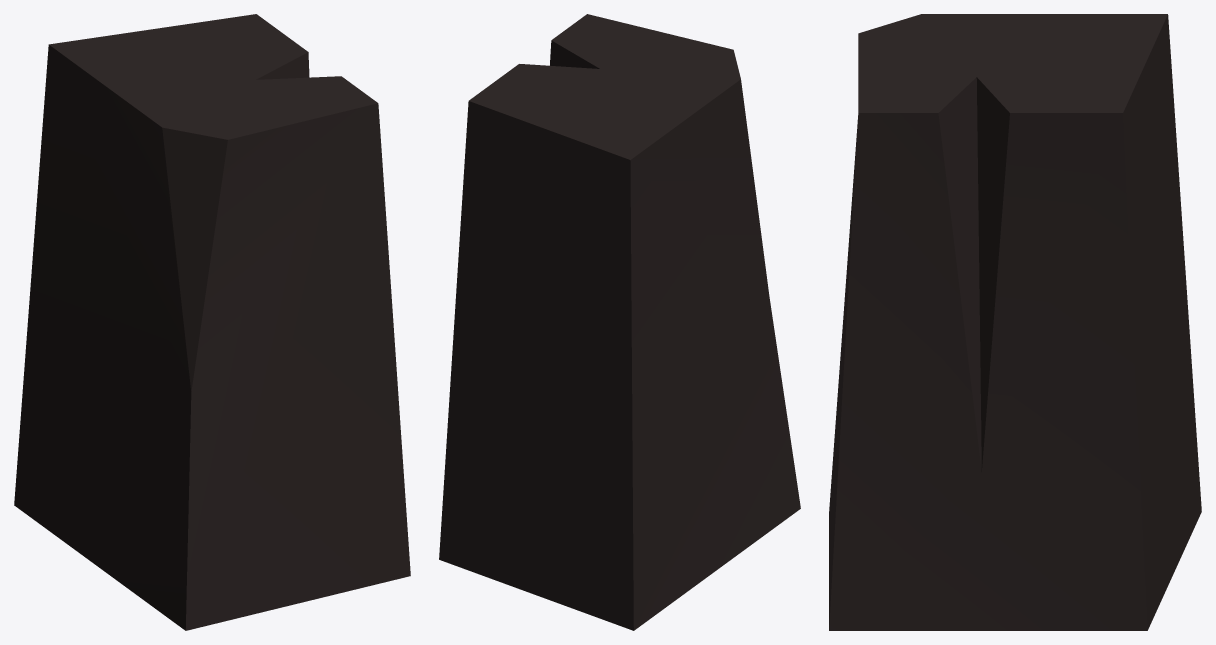
The model's file is Rock 05.FBX.
The picture shows the model from 3 angles, left to right: view 1: azimuth 30°, elevation 25°; view 2: azimuth 150°, elevation 25°; view 3: azimuth 270°, elevation 25°; orthographic projection. The views are drawn at different scales.
Parts seen in each view (by area): view 1: Box001; view 2: Box001; view 3: Box001.
Part boxes in pixels (x1,y1,x2,y2): Box001: [14, 14, 410, 630]; Box001: [439, 14, 800, 630]; Box001: [829, 14, 1201, 630].
Bounding box in the file's own units: 8.64 × 17.16 × 11.42.
